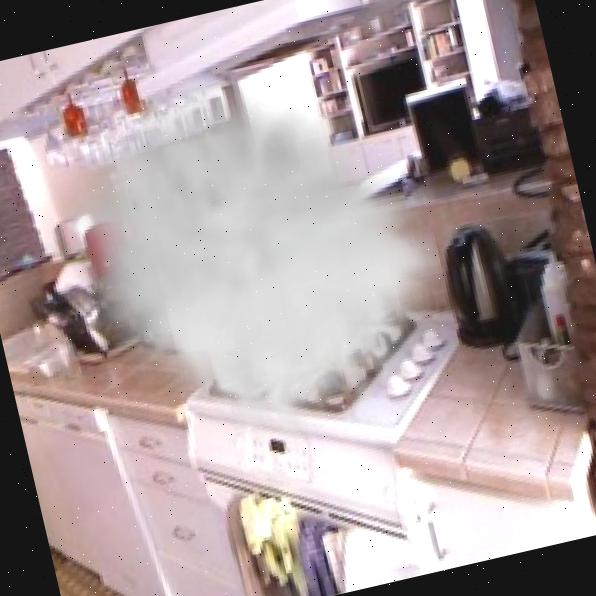smoke: (34, 20, 475, 491)
